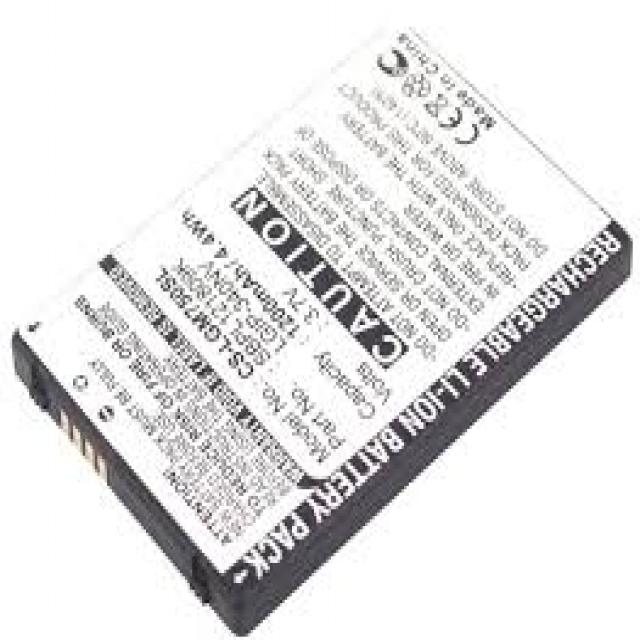non-organic waste: (10, 33, 633, 636)
